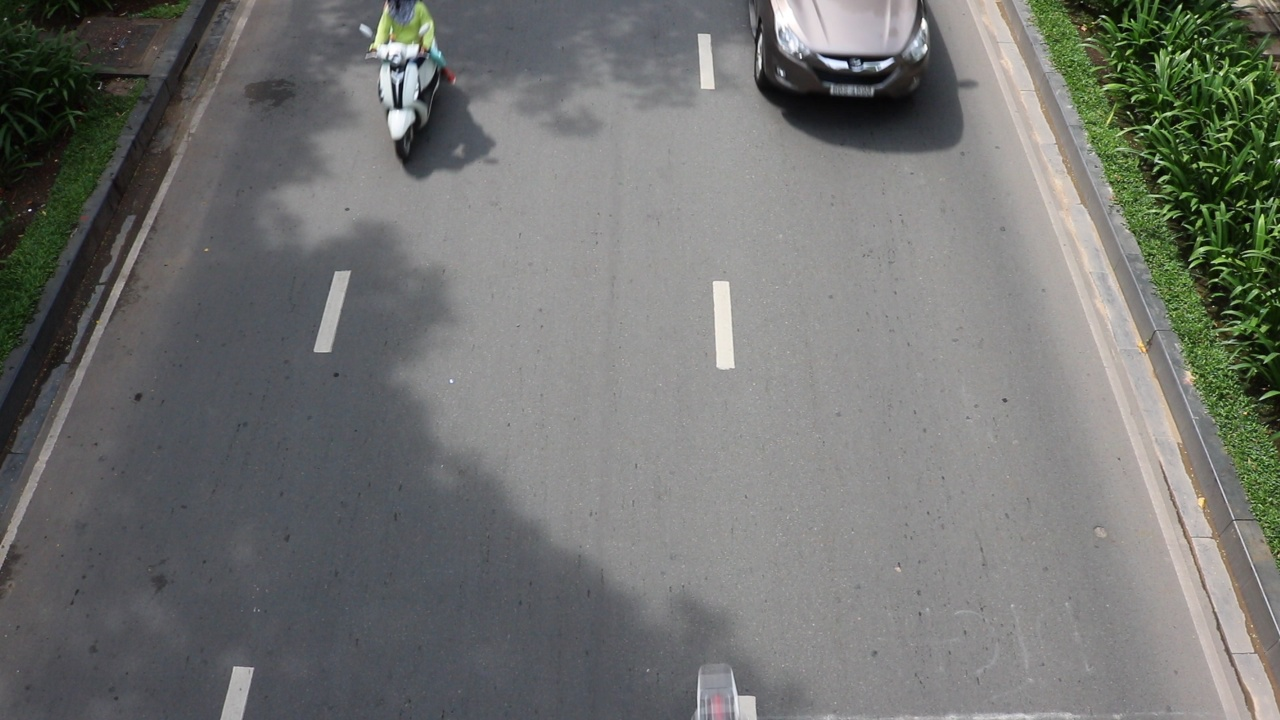motorcycle: (364, 37, 454, 163)
